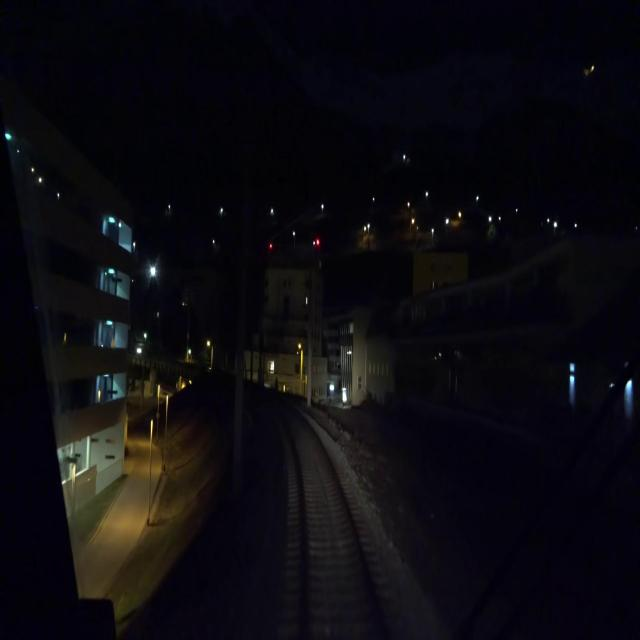rail-track: (267, 397, 389, 639)
